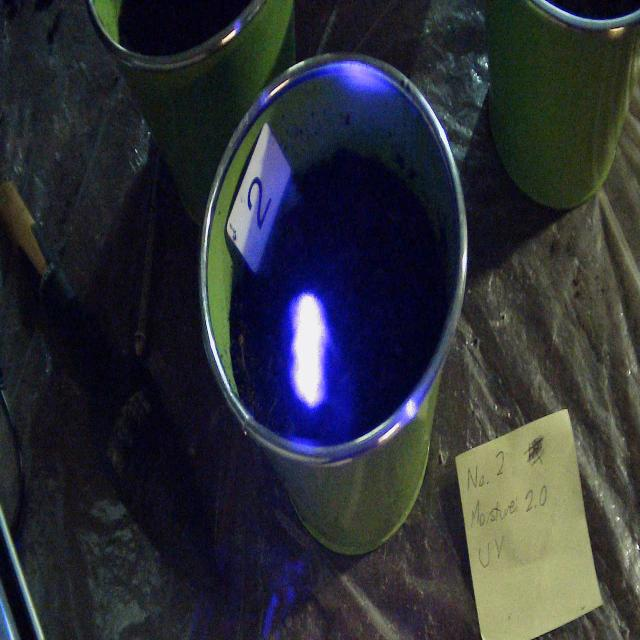soil-moisture-2.0: (288, 292, 333, 411)
